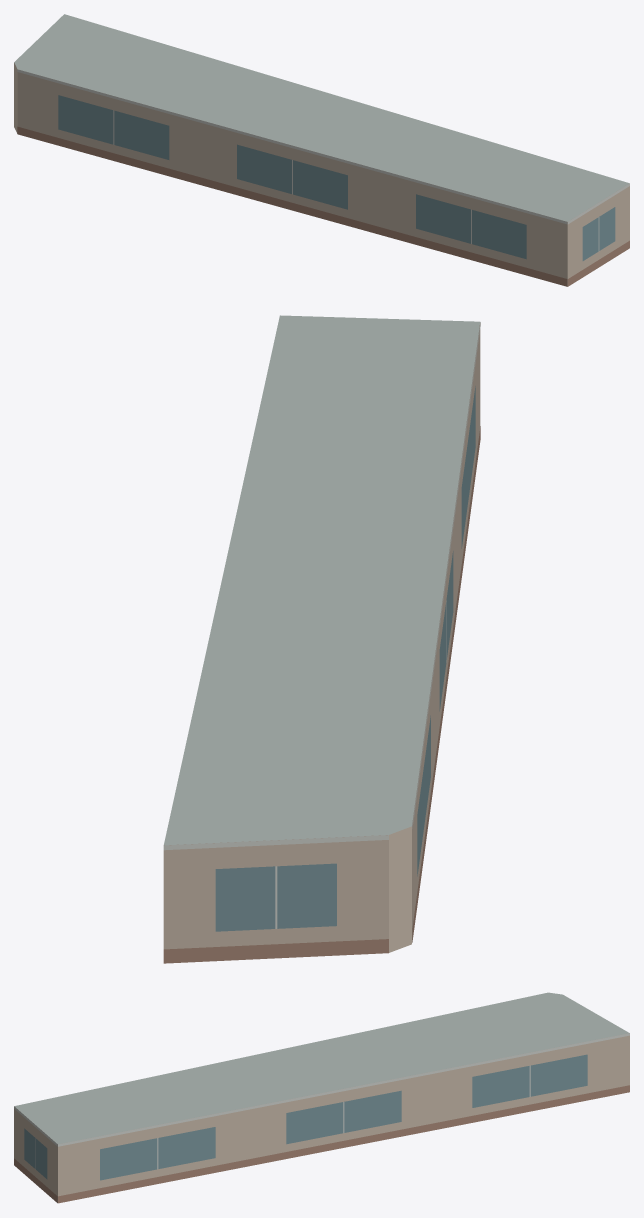
Rendered from survey-upis-32529624.glb.
The picture shows the model from 3 angles, top to bottom: view 1: azimuth 30°, elevation 25°; view 2: azimuth 150°, elevation 25°; view 3: azimuth 270°, elevation 25°; orthographic projection. The views are drawn at different scales.
Parts seen in each view (by area): view 1: survey-upis-32529624.tmp; view 2: survey-upis-32529624.tmp; view 3: survey-upis-32529624.tmp.
Boxes of the visible parts, x1,y1,x2,y2 form: survey-upis-32529624.tmp: (14, 14, 629, 286); survey-upis-32529624.tmp: (163, 315, 480, 963); survey-upis-32529624.tmp: (14, 992, 629, 1203).
Size of the model in its own units: 16.84 by 3.05 by 28.84.
